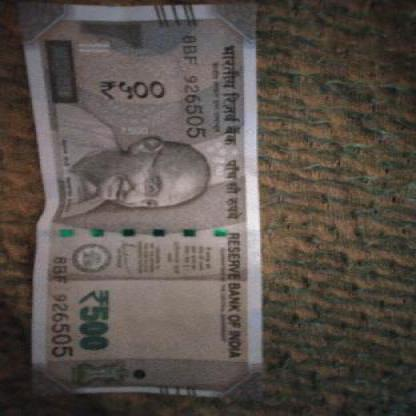New500Front: (21, 4, 259, 397)
